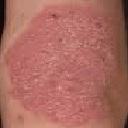Psoriasis: (18, 14, 115, 116)
